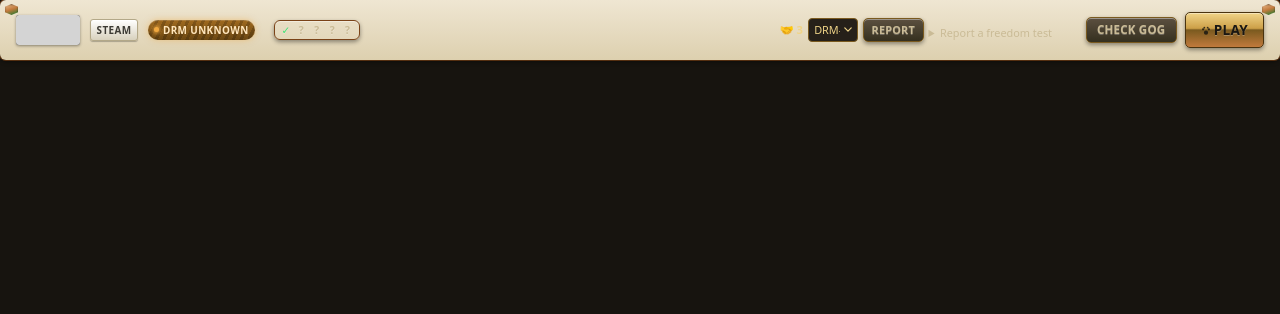
Test: GameCard axis pips › expands to the full per-axis breakdown on click
The width and height of the screenshot is (1280, 314).
Click the button titled "Community-reported freedom test results" at x=317, y=30, box x1=274 y1=20 x2=360 y2=40
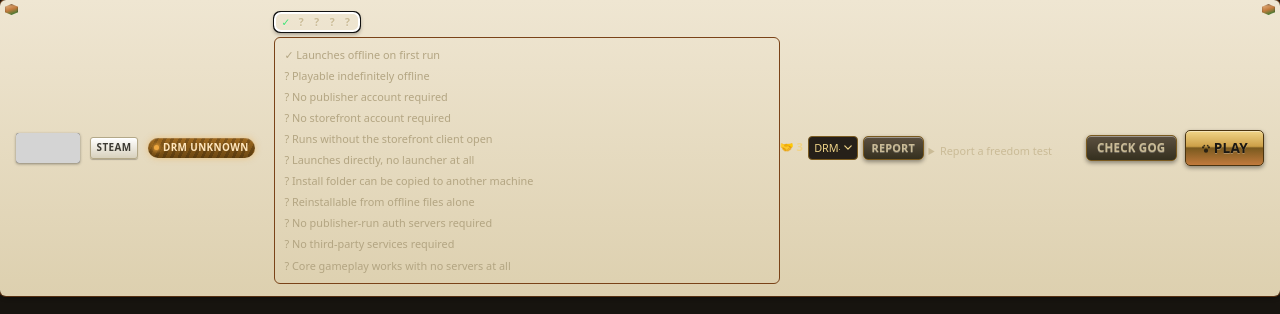
Expected: the list with class "axis-pips-detail" shows "Launches offline on first run", x1=296 y1=47 x2=440 y2=62
